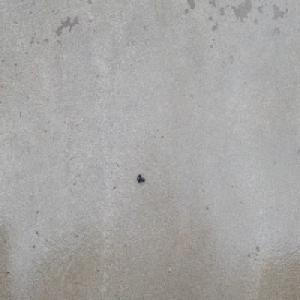BoltWasher: (136, 173, 145, 183)
